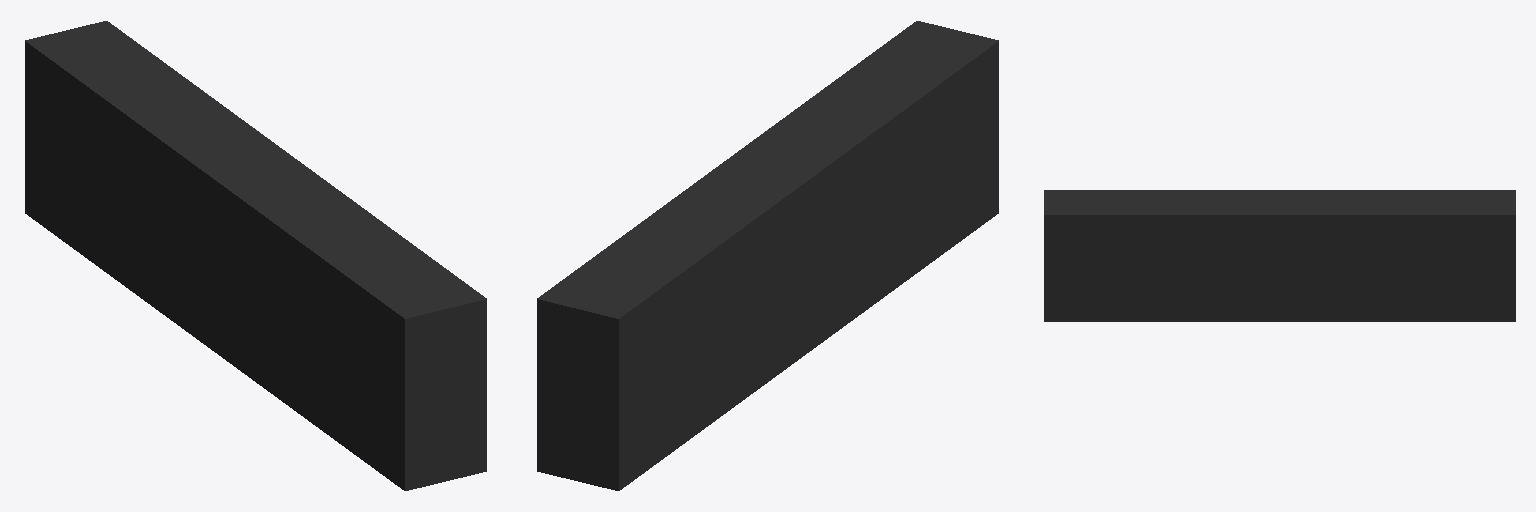
The robot description file, URDF, robot "wall":
<robot name="wall">
  <link name="baseLink">
   
    <inertial>
      <origin rpy="0 0 0" xyz="0 0 0" />
       <mass value="1000.0" />
       <inertia ixx="0" ixy="0" ixz="0" iyy="0" iyz="0" izz="0" />
    </inertial>
    <visual>
      <origin rpy="0 0 0" xyz="0 0 0" />
      <geometry>
			  <box size="1 8 2" />
      </geometry>
       <material name="grey">
        <color rgba="0.24 0.24 0.24 1" />
      </material>
    </visual>
    <collision>
      <origin rpy="0 0 0" xyz="0 0 0" />
      <geometry>
	 	      <box size="1 8 2" />
      </geometry>
    </collision>
  </link>
</robot>

--- What the picture shows (computed from the rendered views, not written in the file) ---
3 views of the same robot in one strip: view 1: azimuth 30°, elevation 25°; view 2: azimuth 150°, elevation 25°; view 3: azimuth 270°, elevation 25° (orthographic).
Robot: wall — 1 links, 0 joints (none); root link baseLink; default pose: every joint at zero.
Links seen in each view (by area): view 1: baseLink; view 2: baseLink; view 3: baseLink.
Boxes of the visible links, x1,y1,x2,y2 form: baseLink: [25, 21, 486, 490]; baseLink: [537, 21, 998, 490]; baseLink: [1044, 190, 1515, 321].
Size in the robot's own frame: 1 by 8 by 2 metres.
Geometry: primitives only (box / cylinder / sphere), no mesh files.